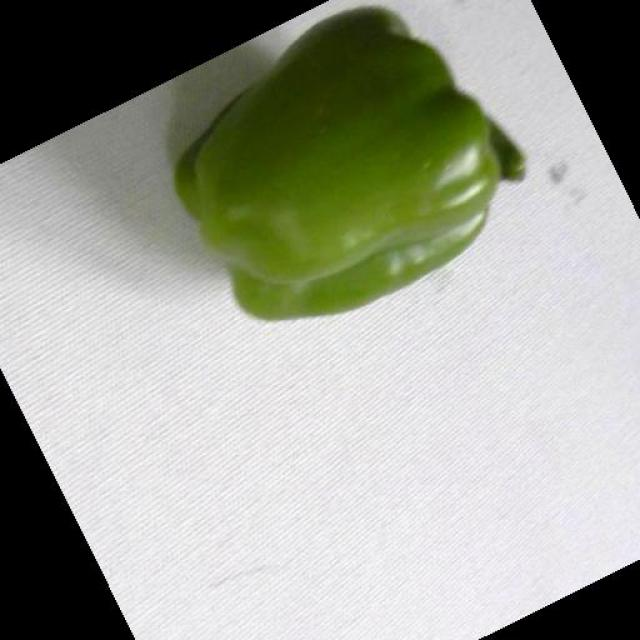Fresh_Capsicum: (154, 34, 607, 341)
